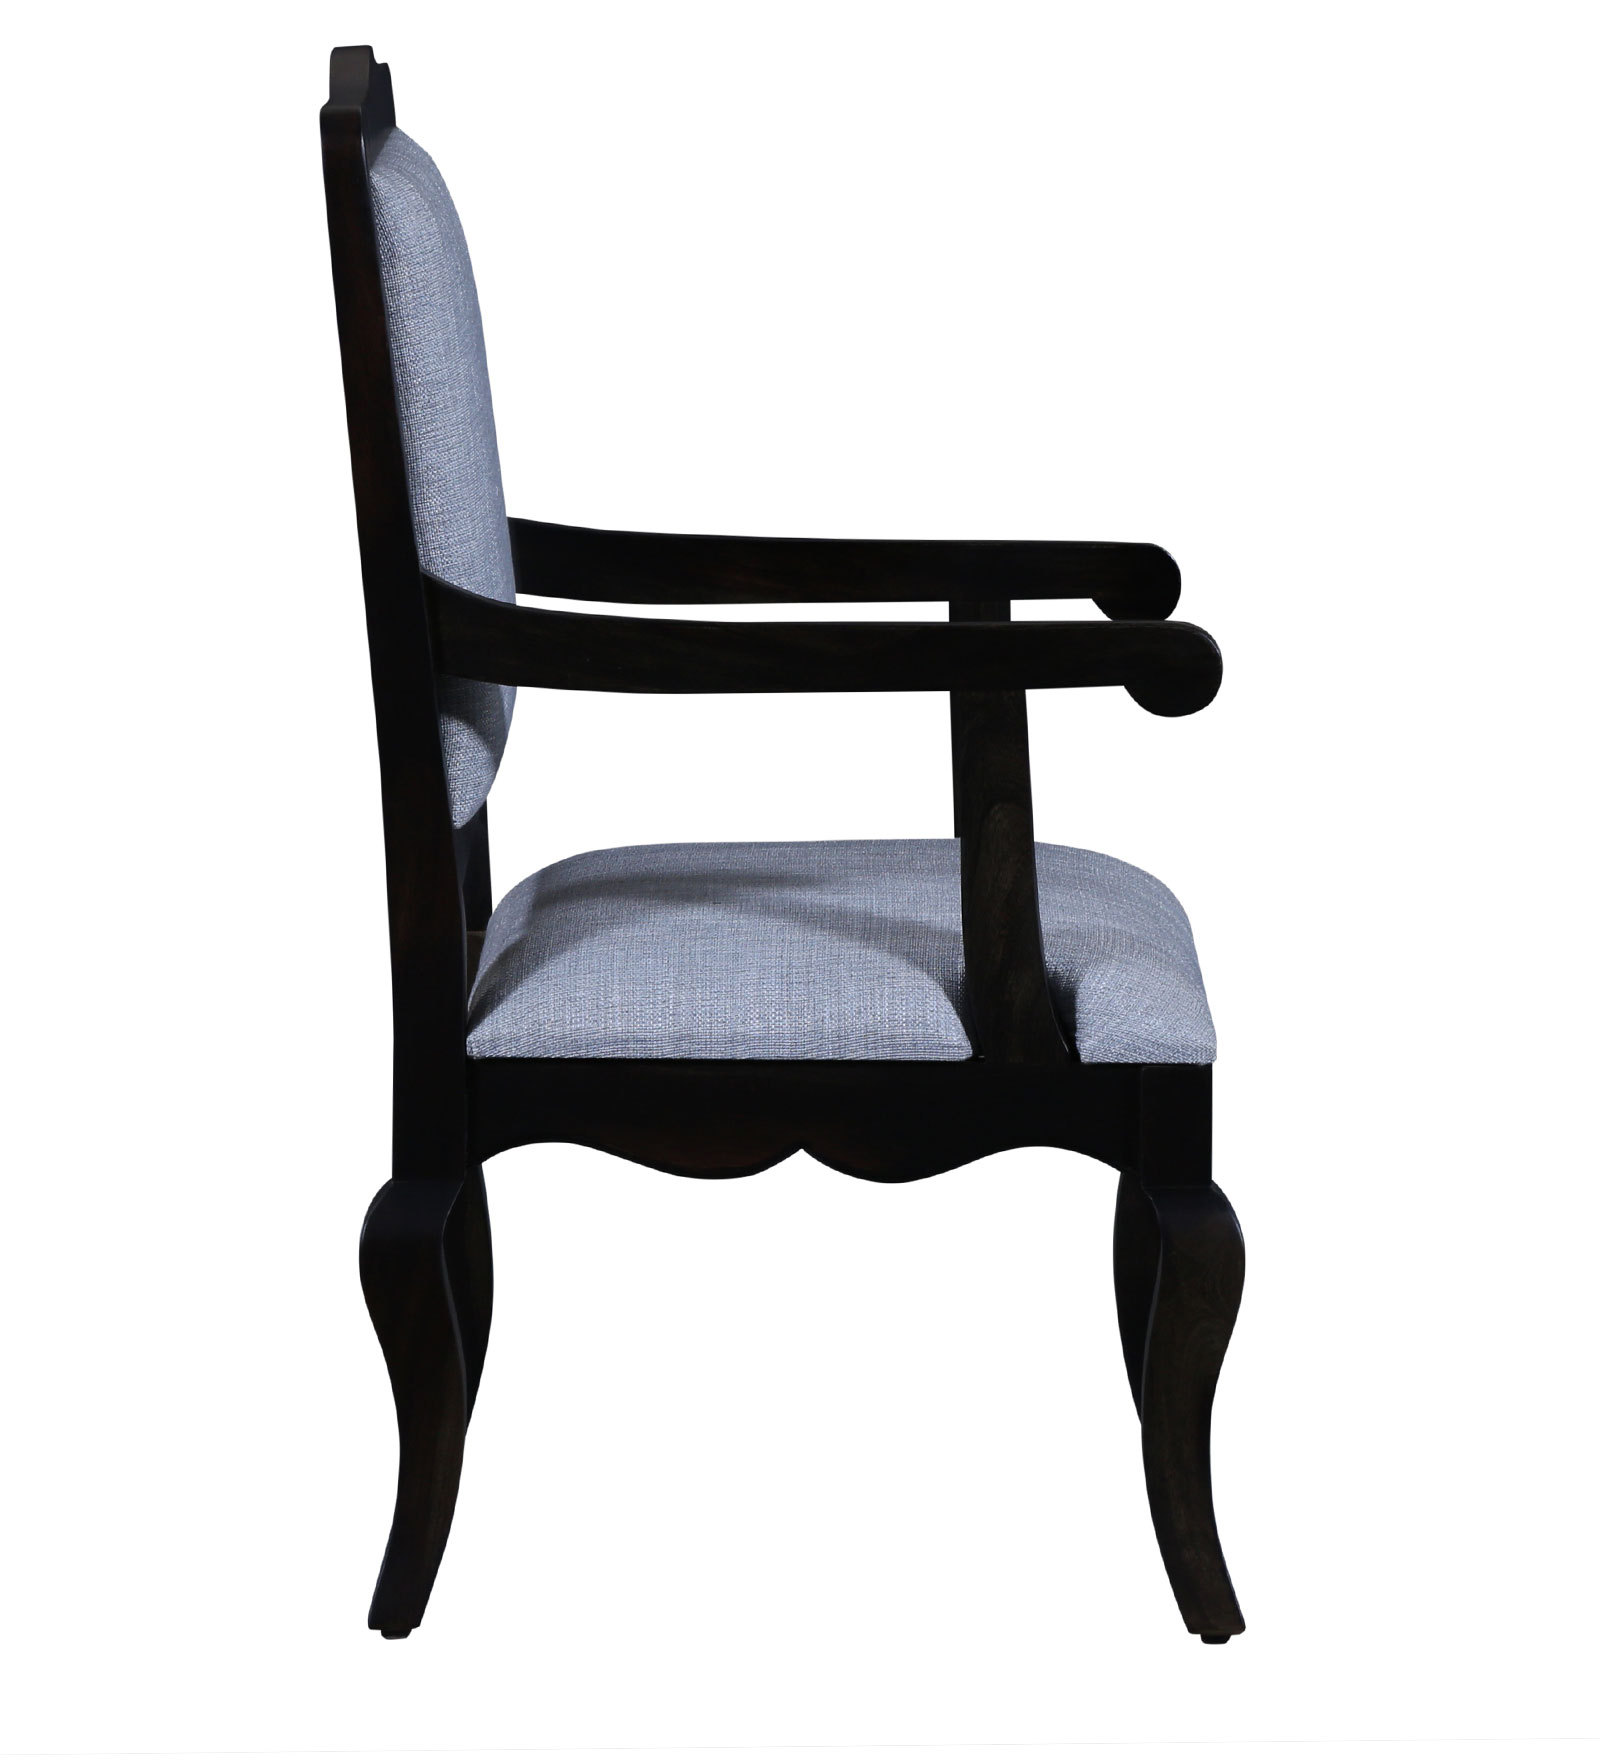Anne Arm Chair in Warm Chestnut Finish by Amberville: (265, 23, 1267, 1688)
